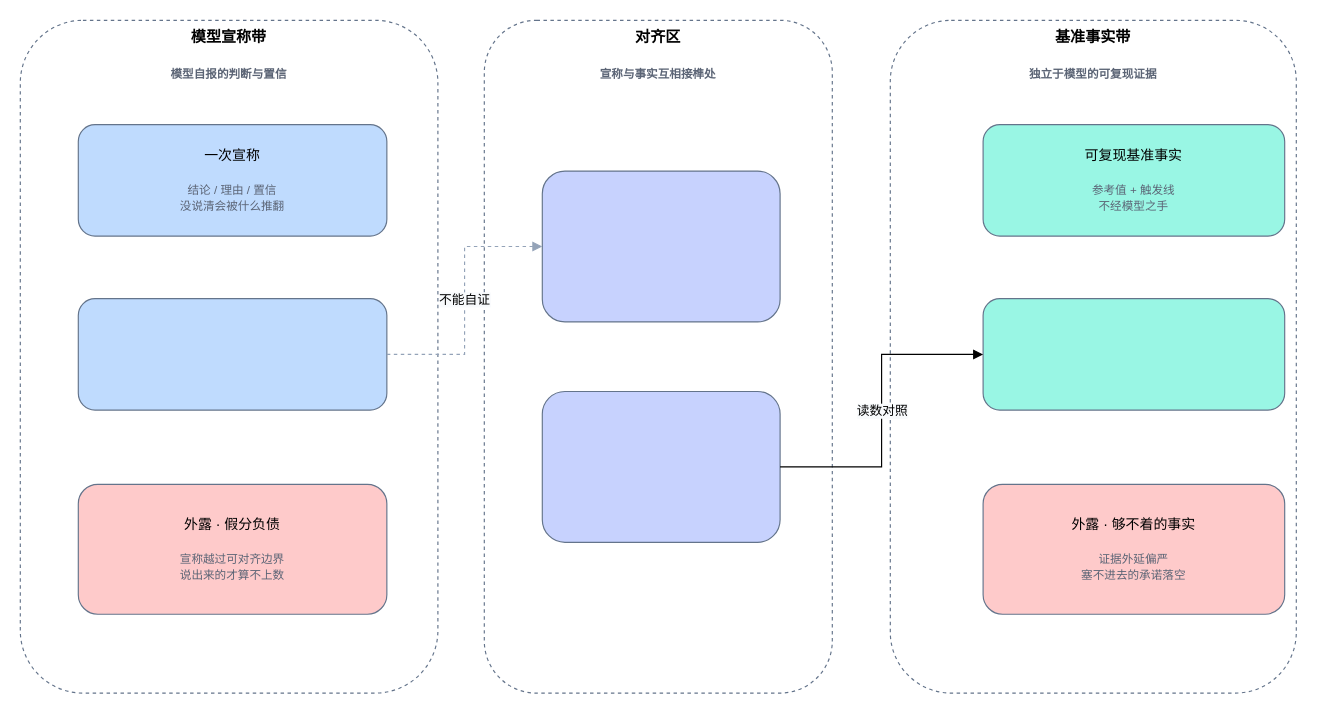
The diagram is 1317 pixels wide and 713 high, and some of its shapes have lost their labels. The shapes that lost their labels are listed below. From the top down, each one's box as (x1, y1, x2, y2) in pixels, then its label:
(541, 170, 780, 322): 已对齐 · 可证伪 先做成能被证据击中的断言 再对基准读数
(77, 298, 387, 410): 自设对齐口径 声称该拿几分，凭据在哪儿
(982, 298, 1285, 410): 证据读数 标尺定好，读数照着打
(541, 390, 780, 542): 判定出账 对得上证据就过 对不上就退回重取证
